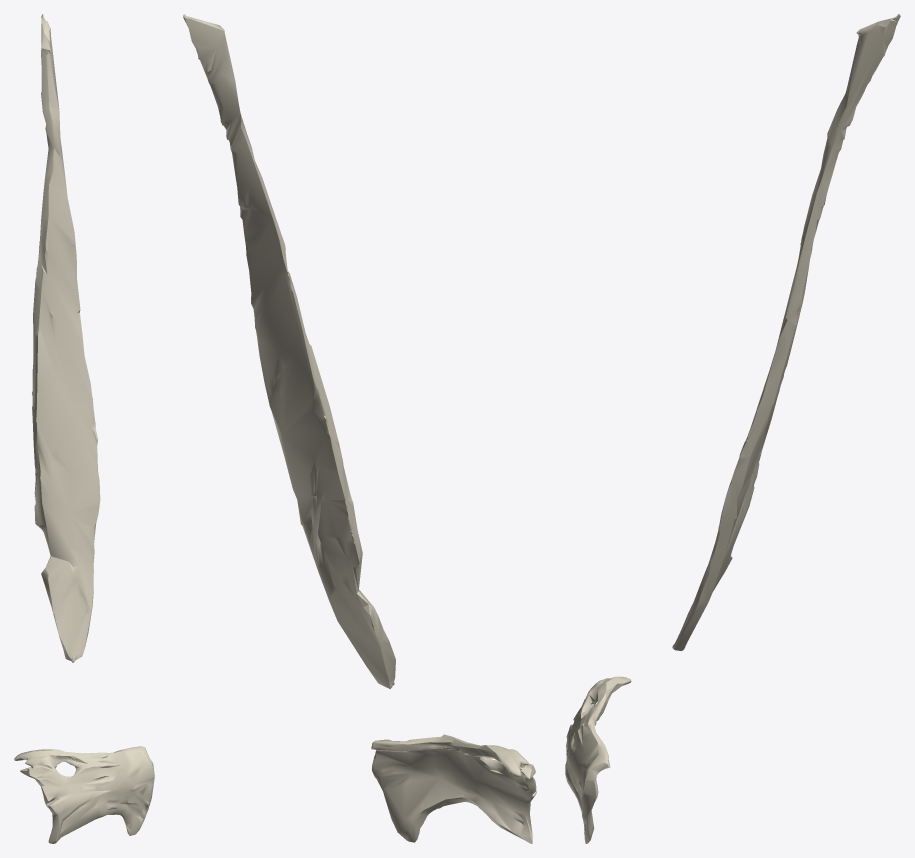
Rendered from joints.upper_limb_right.glb.
3 views of the same model, side by side, from view 1: azimuth 30°, elevation 25°; view 2: azimuth 150°, elevation 25°; view 3: azimuth 270°, elevation 25° (orthographic). The views are drawn at different scales.
Parts seen in each view (by area): view 1: interosseous_membrane_of_right_forearm, flexor_retinaculum_of_right_wrist; view 2: interosseous_membrane_of_right_forearm, flexor_retinaculum_of_right_wrist; view 3: interosseous_membrane_of_right_forearm, flexor_retinaculum_of_right_wrist.
Part boxes in pixels (x1,y1,x2,y2): interosseous_membrane_of_right_forearm: [32, 14, 100, 662]; flexor_retinaculum_of_right_wrist: [14, 746, 154, 843]; interosseous_membrane_of_right_forearm: [183, 14, 395, 689]; flexor_retinaculum_of_right_wrist: [371, 734, 536, 843]; interosseous_membrane_of_right_forearm: [672, 14, 900, 650]; flexor_retinaculum_of_right_wrist: [565, 676, 631, 843].
Size of the model in its own units: 0.042 by 0.1983 by 0.0707.
